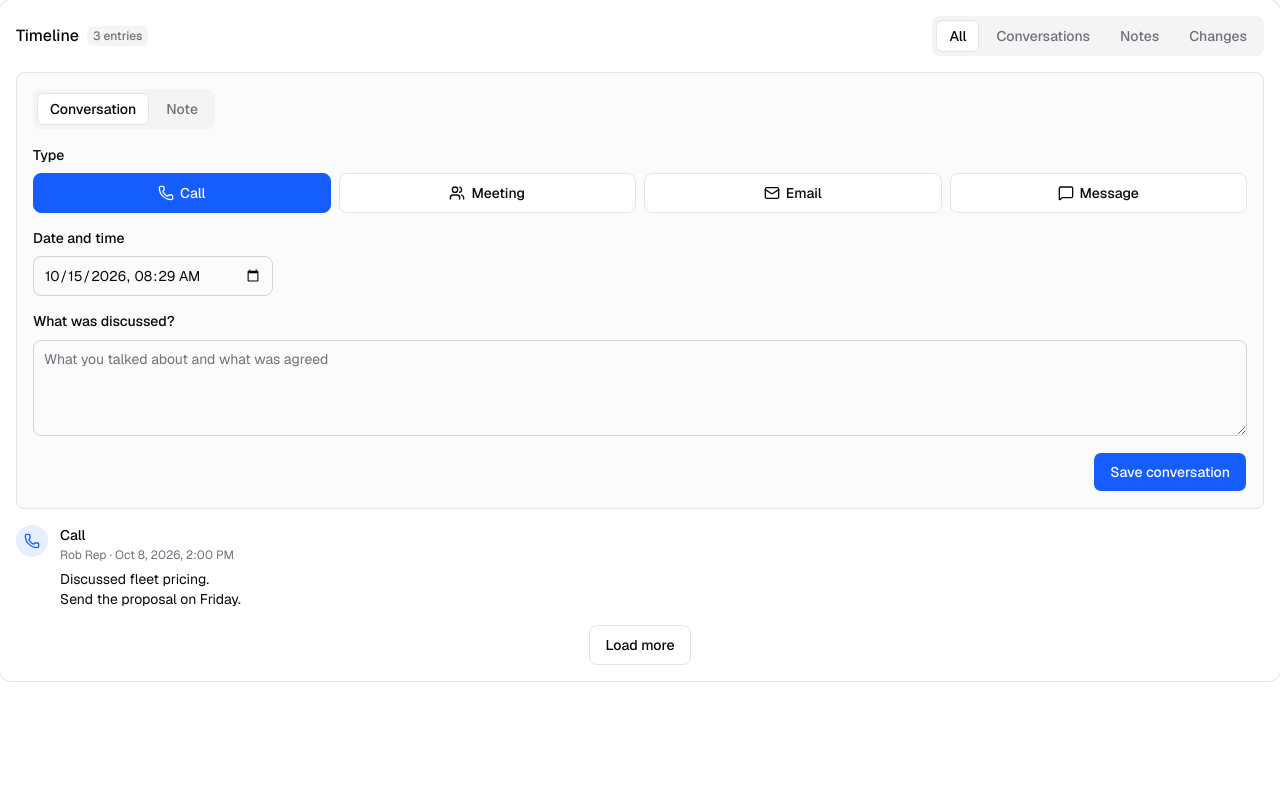
Timeline › keeps the list and explains when loading more fails
The image size is (1280, 800).
Click the button "Load more" at (640, 644), box [588, 624, 692, 664]
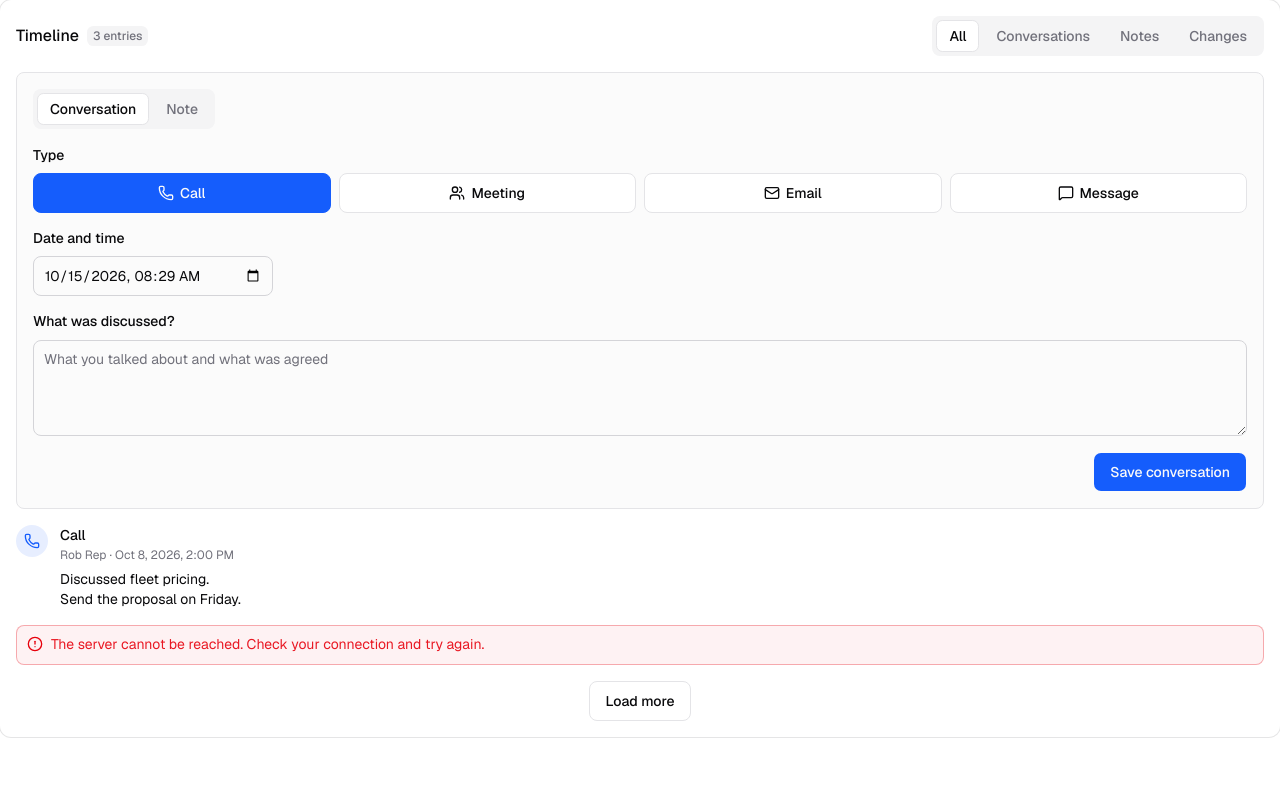
Expected: the button "Load more" is enabled, [588, 680, 692, 720]
Expected: the text "The server cannot be reached. Check your connection and try again." is shown, [51, 634, 484, 652]
